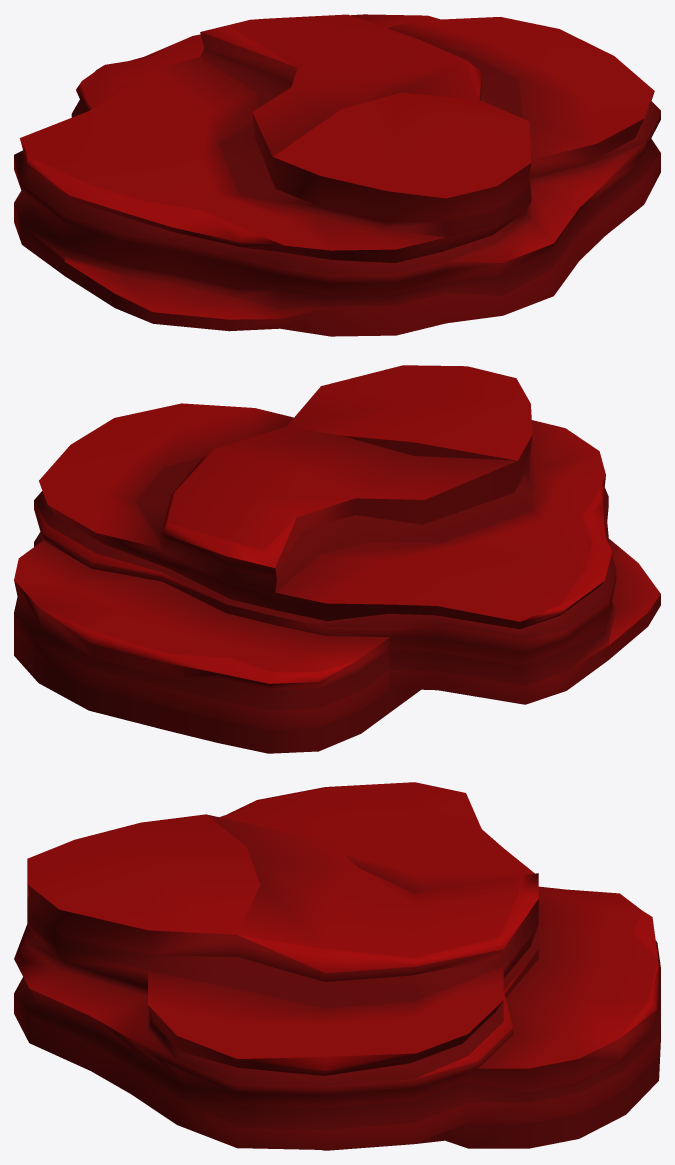
Rendered from geology-rocks-rockflatlayered_v2.fbx.
3 renders of one model, top to bottom at view 1: azimuth 30°, elevation 25°; view 2: azimuth 150°, elevation 25°; view 3: azimuth 270°, elevation 25°, orthographic. The views are drawn at different scales.
Parts seen in each view (by area): view 1: RockFlatLayered_v2; view 2: RockFlatLayered_v2; view 3: RockFlatLayered_v2.
Boxes of the visible parts, x1,y1,x2,y2 form: RockFlatLayered_v2: (14,14,660,336); RockFlatLayered_v2: (14,365,660,753); RockFlatLayered_v2: (14,782,660,1150).
Bounding box in the file's own units: 7.78 × 2.15 × 7.54.
